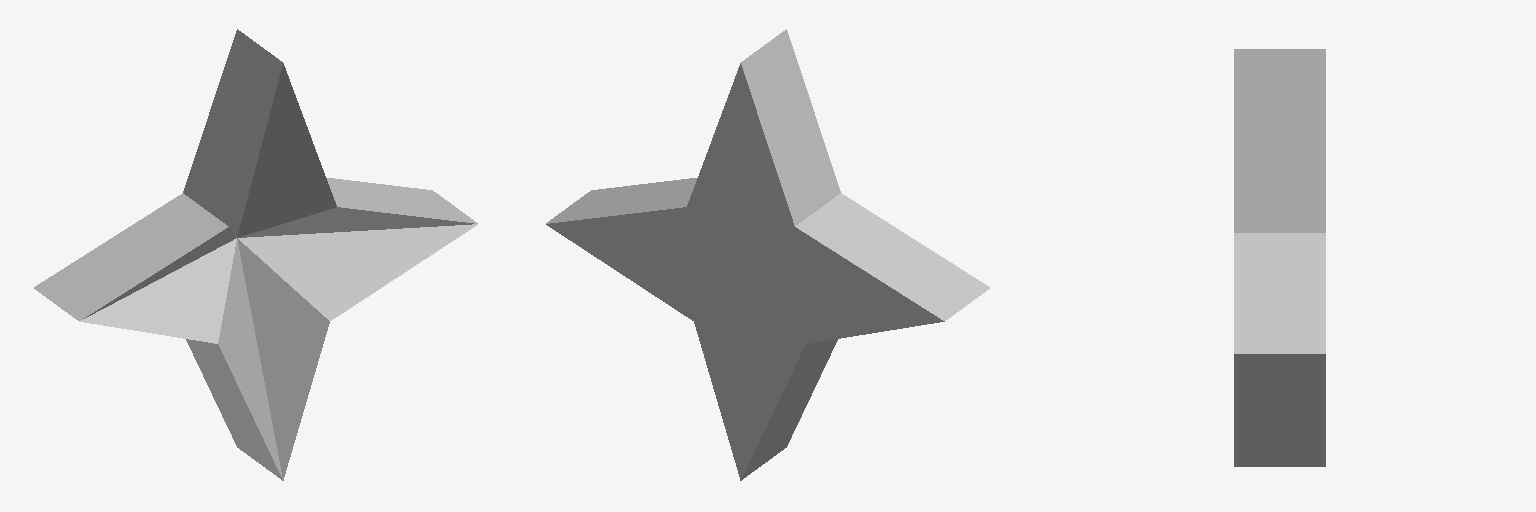
The model's file is original-55.obj.
3 renders of one model, left to right at view 1: azimuth 30°, elevation 25°; view 2: azimuth 150°, elevation 25°; view 3: azimuth 270°, elevation 25°, orthographic.
Parts seen in each view (by area): view 1: #ID5; view 2: #ID5; view 3: #ID5.
Part boxes in pixels (bbox=[...]): #ID5: bbox=[34, 29, 477, 480]; #ID5: bbox=[546, 29, 989, 480]; #ID5: bbox=[1234, 49, 1325, 466].
Bounding box in the file's own units: 0.0961 × 0.0961 × 0.0192.